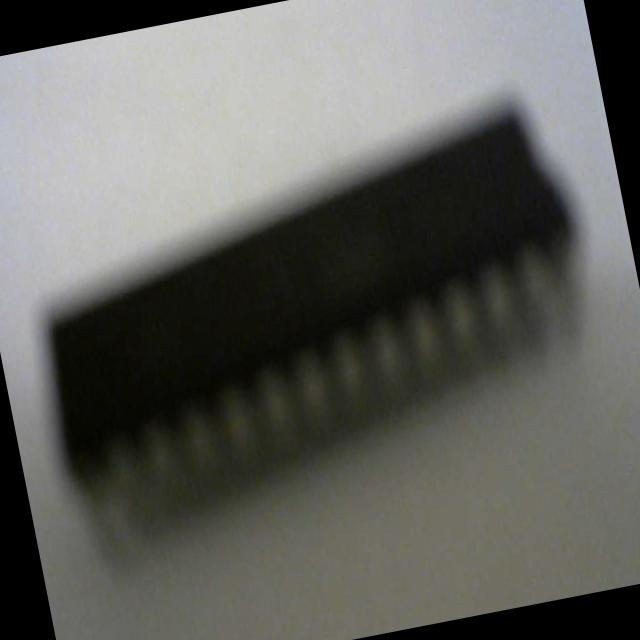atmega: (3, 79, 623, 541)
